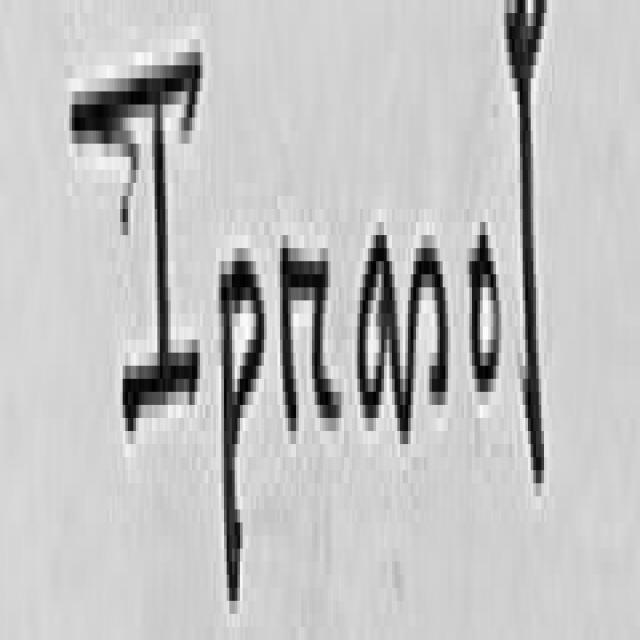I: (72, 52, 203, 431)
a: (360, 235, 405, 431)
l: (509, 0, 547, 477)
o: (472, 235, 501, 392)
p: (221, 261, 264, 601)
r: (283, 248, 341, 431)
s: (397, 248, 448, 444)
